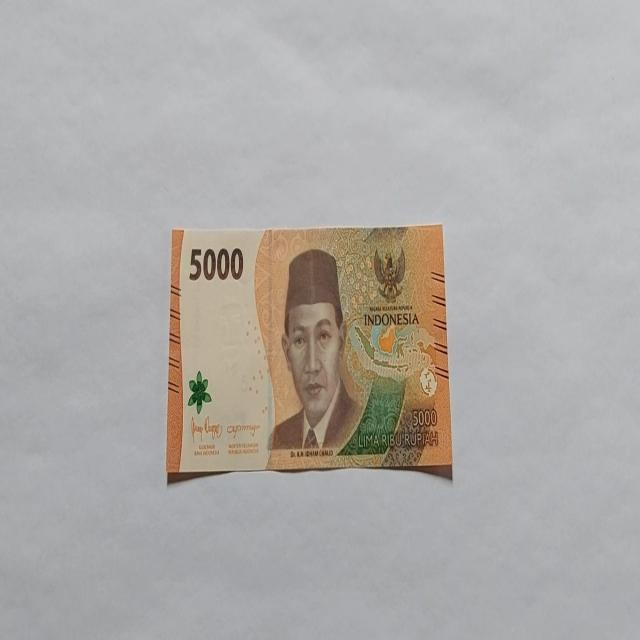lima ribu rupiah: (166, 223, 454, 482), (266, 247, 363, 454)
